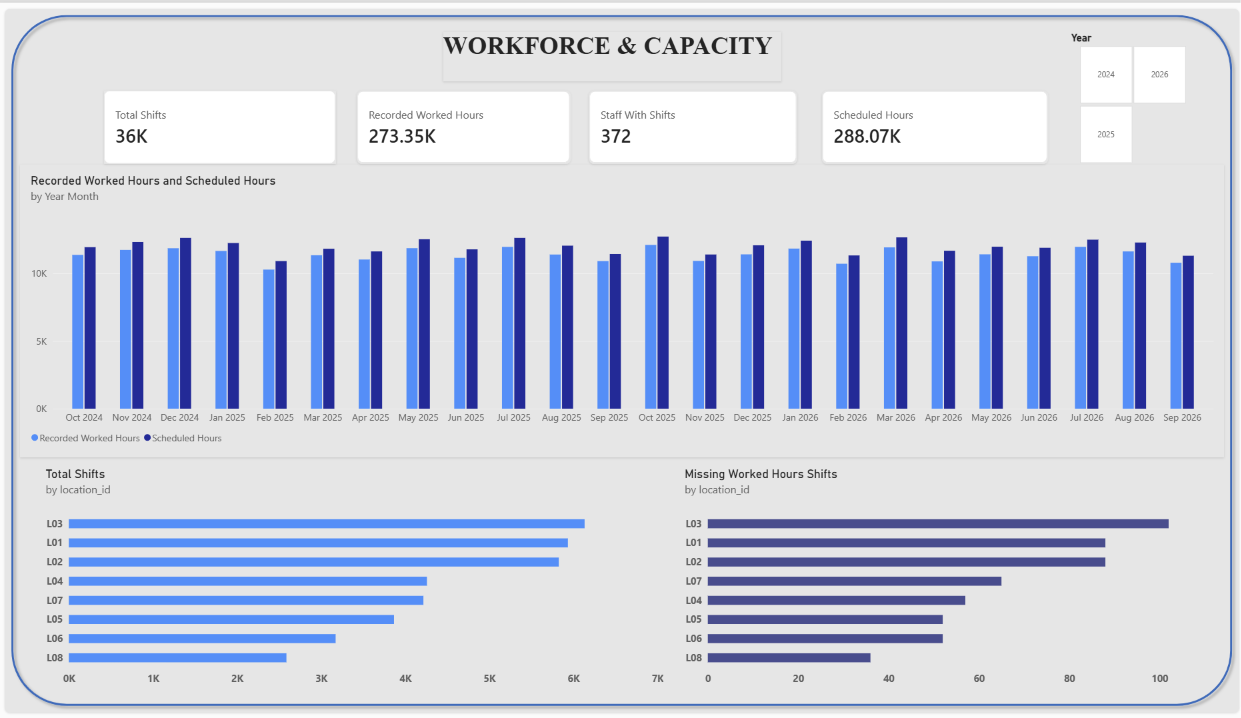

Layout of this report page (visuals, bound fields, positions):
{"tool":"powerbi","page":{"name":"Workforce & Capacity","canvas":[1920,1080],"ordinal":2},"visuals":[{"type":"shape","box":[16.6,9.1,1861.7,1062.1],"z":0},{"type":"textbox","box":[677.4,43.8,510.4,75.1],"z":1000},{"type":"cardVisual","fields":{"Data":["_Measures.Total Shifts"]},"box":[165.6,133.2,350,111],"z":2000},{"type":"cardVisual","fields":{"Data":["_Measures.staff with shifts"]},"box":[898,133.2,314.1,111],"z":3000},{"type":"cardVisual","fields":{"Data":["_Measures.Scheduled Hours"]},"box":[1249.7,133.2,341.4,111],"z":4000},{"type":"cardVisual","fields":{"Data":["_Measures.Recorded Worked Hours"]},"box":[548,133.2,322.7,111],"z":5000},{"type":"slicer","fields":{"Values":["DateTable.Year"]},"box":[1616.7,44.4,199.7,199.7],"z":5001},{"type":"clusteredColumnChart","fields":{"Category":["DateTable.Year Month"],"Y":["_Measures.Recorded Worked Hours","_Measures.Scheduled Hours"]},"box":[39.3,244.1,1816.4,442.2],"z":5002},{"type":"clusteredBarChart","fields":{"Category":["public vw_workforce_reporting.location_id"],"Y":["_Measures.Total Shifts"]},"box":[61.9,686.4,964,365.1],"z":5003},{"type":"clusteredBarChart","fields":{"Category":["public vw_workforce_reporting.location_id"],"Y":["_Measures.Missing Worked Hours Shifts"]},"box":[1025.9,686.4,829.8,365.1],"z":5004}]}

Visuals, with their boxes in screenshot pixels (x1, y1, x2, y2), scaled from the page's 1920x1080 canvas onto the 1241x718 screenshot:
shape: region(11, 6, 1214, 712)
textbox: region(438, 29, 768, 79)
cardVisual - _Measures.Total Shifts: region(107, 89, 333, 162)
cardVisual - _Measures.staff with shifts: region(580, 89, 783, 162)
cardVisual - _Measures.Scheduled Hours: region(808, 89, 1028, 162)
cardVisual - _Measures.Recorded Worked Hours: region(354, 89, 563, 162)
slicer - DateTable.Year: region(1045, 30, 1174, 162)
clusteredColumnChart - DateTable.Year Month x _Measures.Recorded Worked Hours: region(25, 162, 1199, 456)
clusteredBarChart - public vw_workforce_reporting.location_id x _Measures.Total Shifts: region(40, 456, 663, 699)
clusteredBarChart - public vw_workforce_reporting.location_id x _Measures.Missing Worked Hours Shifts: region(663, 456, 1199, 699)
